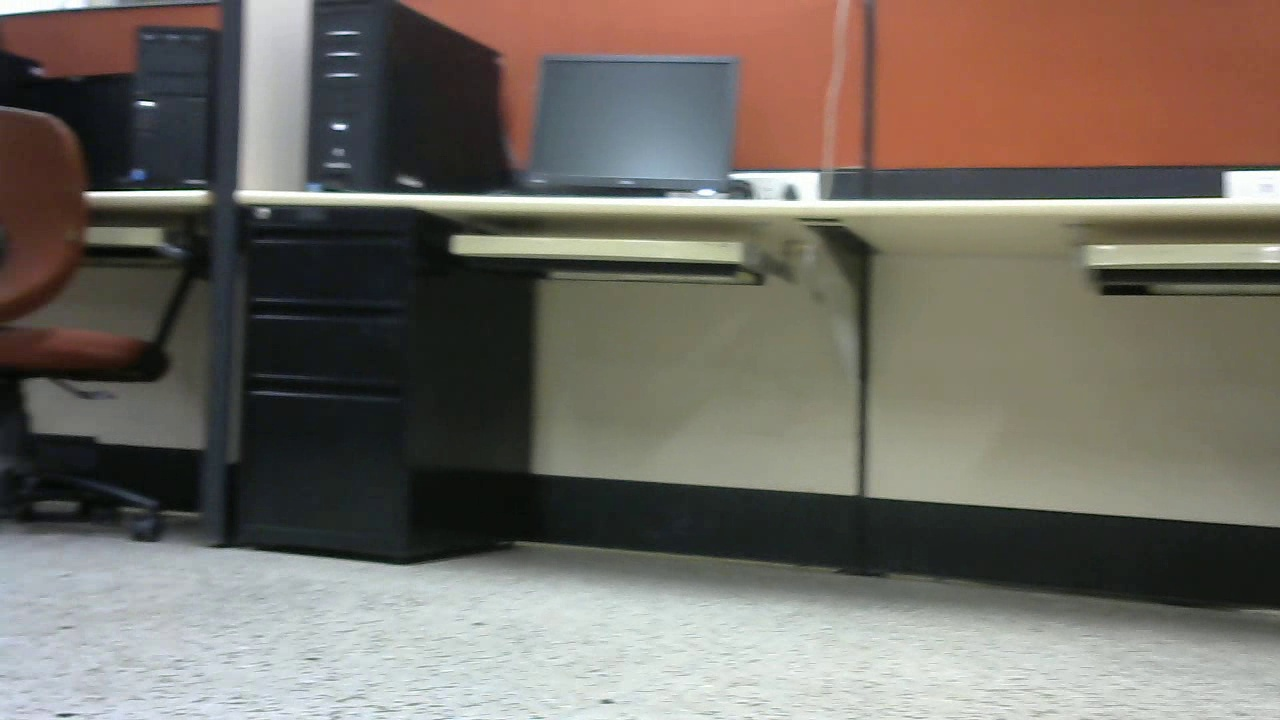chair: (1, 107, 208, 542)
